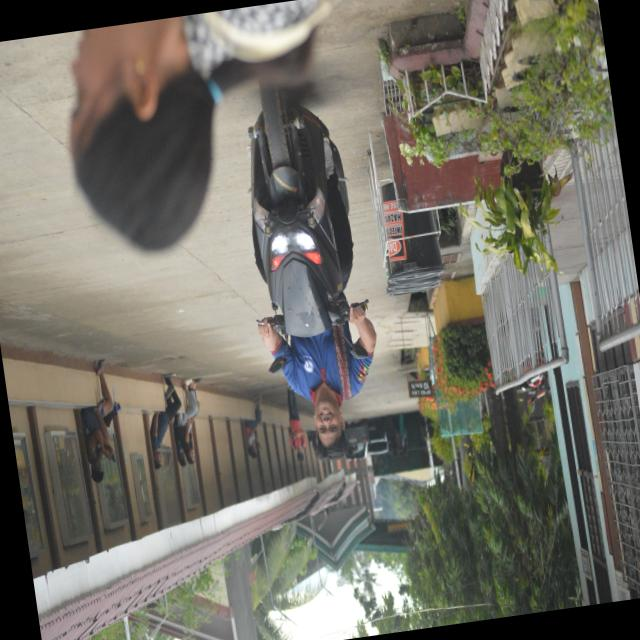person: (70, 0, 329, 250), (257, 306, 375, 459), (80, 359, 113, 482), (149, 373, 180, 468), (173, 378, 198, 466), (286, 385, 305, 461), (243, 396, 261, 457)
